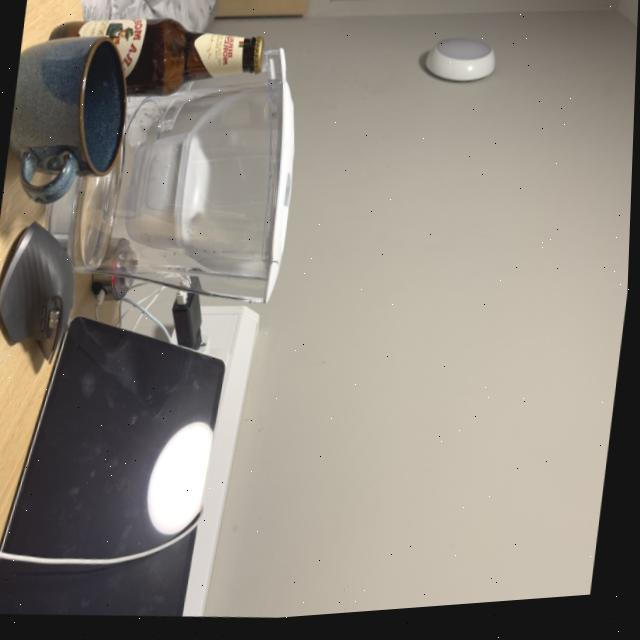beer: (38, 5, 272, 111)
